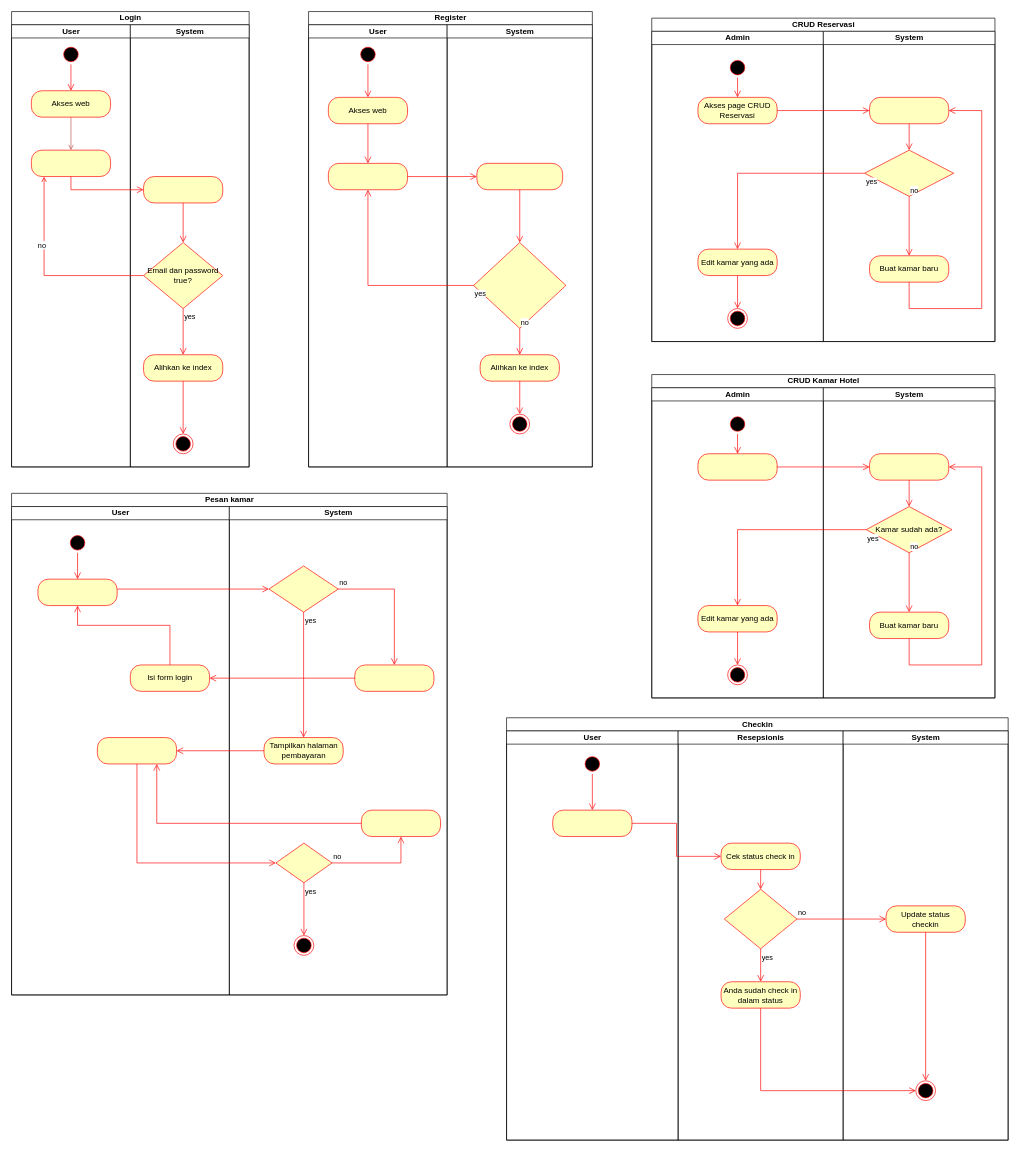
This 1020x1152 diagram has some shape labels left out. Here are the shapes that lost their labels. From the top down, the centre of each, then its label:
the point at 909,110: Menampilkan page CRUD Reservasi
the point at 71,163: Mengisi email dan password
the point at 368,176: Mengisi form register
the point at 519,176: Verifikasi dengan data yang sudah dimiliki
the point at 909,172: Reservasi sudah ada?
the point at 183,189: Verifikasi email dan psssword
the point at 519,285: Data yang diinput sama dengan data yang sudah ada?
the point at 737,466: Akses page CRUD Kamar
the point at 909,466: Menampilkan page CRUD Kamar
the point at 77,592: Pesan salah satu kamar
the point at 303,588: User sudah login?
the point at 394,677: Alihkan ke halaman login
the point at 137,750: Membayar
the point at 401,823: Pop up pembayaran gagal
the point at 592,823: Check in
the point at 303,862: Pembayaran berhasil?
the point at 760,919: dalam status sudah Checkin?
